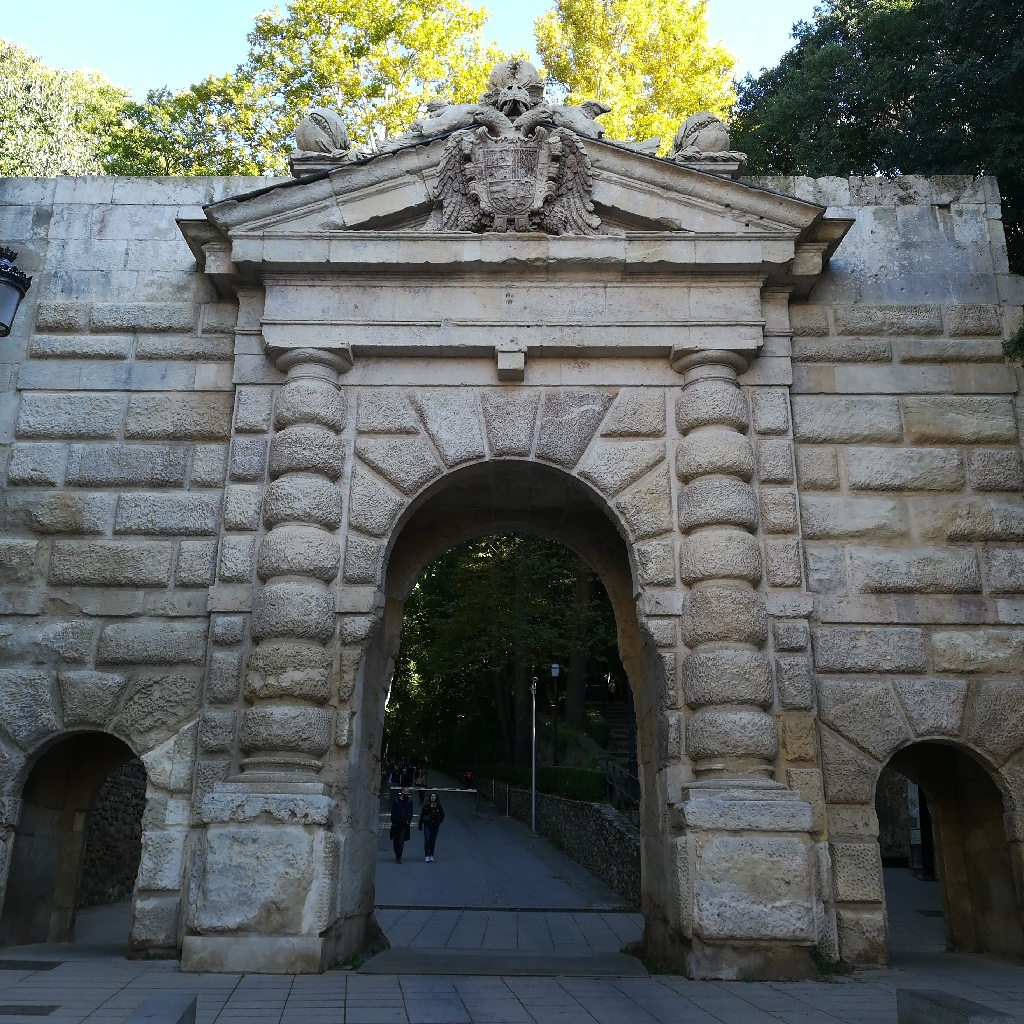arco-medio-punto: (374, 449, 659, 634), (873, 730, 1024, 846), (1, 720, 154, 820)
fronton: (201, 124, 842, 253)
